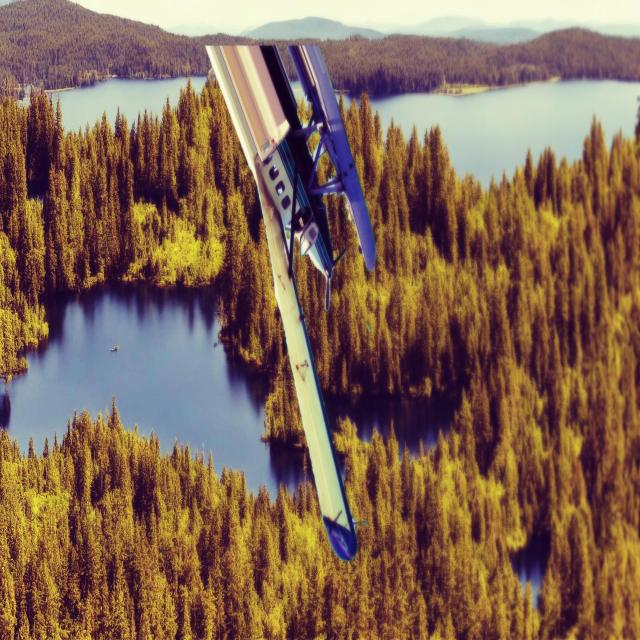airplane: (204, 41, 377, 562)
